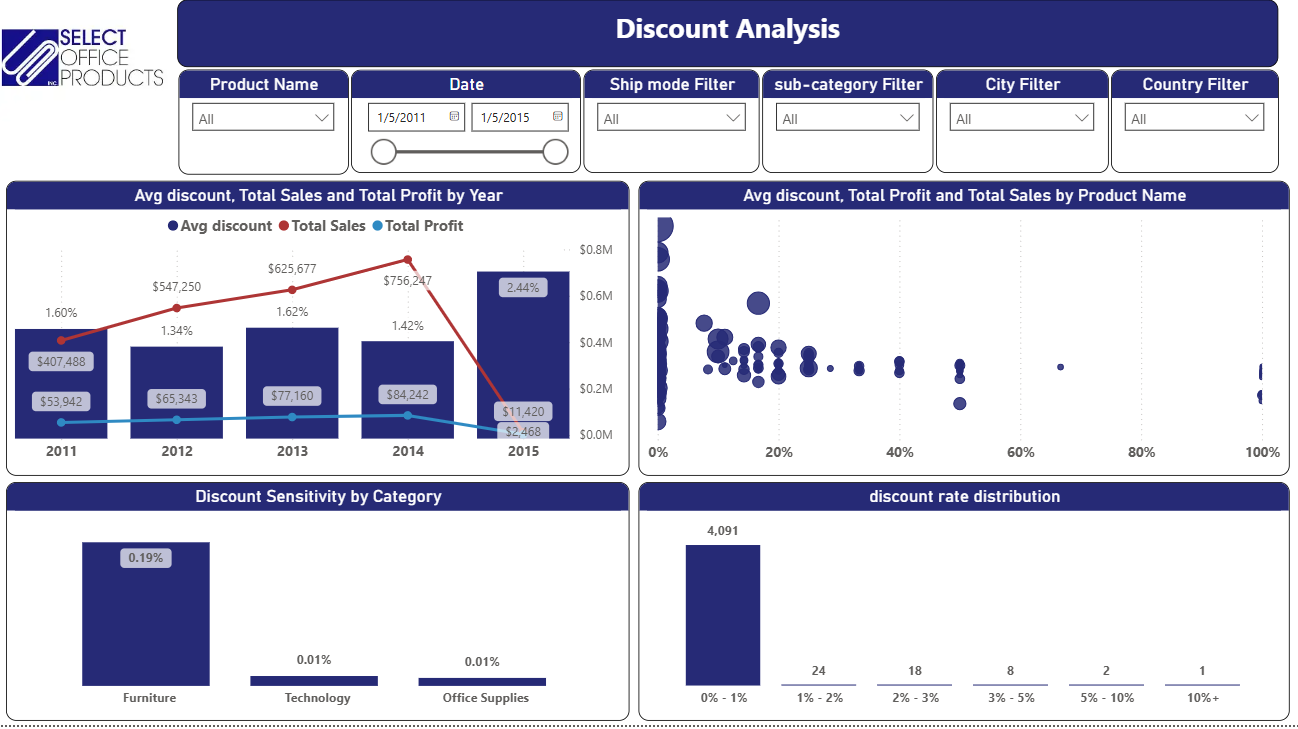

What the dashboard file says about the page in this screenshot:
{"tool":"powerbi","page":{"name":"Discount Analysis","canvas":[1280,720],"ordinal":6},"visuals":[{"type":"textbox","box":[177.9,7.4,1081,66.3],"z":0},{"type":"image","box":[0,4.9,169.3,122.7],"z":1000},{"type":"slicer","title":"Country Filter","fields":{"Values":["Country.Country"]},"box":[1094.5,76.1,164.4,101.8],"z":2000},{"type":"slicer","title":"City Filter","fields":{"Values":["City.City"]},"box":[922.7,76.1,169.3,101.8],"z":3000},{"type":"slicer","title":"sub-category Filter","fields":{"Values":["Sub-Category.Sub-Category"]},"box":[752.2,76.1,168.1,101.8],"z":4000},{"type":"slicer","title":"Ship mode Filter","fields":{"Values":["Ship Mode.Ship Mode"]},"box":[576.7,76.1,173,101.8],"z":5000},{"type":"slicer","title":"Date","fields":{"Values":["Dim_date.Date"]},"box":[348.5,76.1,225.8,101.8],"z":6000},{"type":"slicer","title":"Product Name","fields":{"Values":["Product.Product Name"]},"box":[179.1,76.1,166.9,103.1],"z":7000},{"type":"lineClusteredColumnComboChart","fields":{"Category":["Dim_date.Date.Variation.Date Hierarchy.Year","Dim_date.Date.Variation.Date Hierarchy.Quarter","Dim_date.Date.Variation.Date Hierarchy.Month","Dim_date.Date.Variation.Date Hierarchy.Day"],"Y2":["_Measures.Total Sales","_Measures.Total Profit"],"Y":["_Measures.Avg discount"]},"box":[9.8,185.3,612.3,289.6],"z":8000},{"type":"scatterChart","fields":{"Y":["_Measures.Total Profit"],"Size":["_Measures.Total Sales"],"Category":["Product.Product Name"],"X":["_Measures.Avg discount"]},"box":[630.7,185.3,639.3,289.6],"z":9000},{"type":"lineStackedColumnComboChart","fields":{"Category":["Category.Category"],"Y":["_Measures.Discount Sensitivity"]},"box":[9.8,481,612.3,234.4],"z":10000},{"type":"columnChart","title":"discount rate distribution","fields":{"Y":["_Measures.Number of orders"],"Category":["Order Details.Discount Bucket"]},"box":[631,481,639,234],"z":11000}]}

Visuals, with their boxes in screenshot pixels (x1, y1, x2, y2), scaled from the page's 1280x720 canvas onto the 1298x729 screenshot:
textbox: x1=180, y1=7, x2=1277, y2=75
image: x1=0, y1=5, x2=172, y2=129
"Country Filter" slicer: x1=1110, y1=77, x2=1277, y2=180
"City Filter" slicer: x1=936, y1=77, x2=1107, y2=180
"sub-category Filter" slicer: x1=763, y1=77, x2=933, y2=180
"Ship mode Filter" slicer: x1=585, y1=77, x2=760, y2=180
"Date" slicer: x1=353, y1=77, x2=582, y2=180
"Product Name" slicer: x1=182, y1=77, x2=351, y2=181
lineClusteredColumnComboChart - Dim_date.Date.Variation.Date Hierarchy.Year x Dim_date.Date.Variation.Date Hierarchy.Quarter: x1=10, y1=188, x2=631, y2=481
scatterChart - _Measures.Total Profit x _Measures.Total Sales: x1=640, y1=188, x2=1288, y2=481
lineStackedColumnComboChart - Category.Category x _Measures.Discount Sensitivity: x1=10, y1=487, x2=631, y2=724
"discount rate distribution" columnChart: x1=640, y1=487, x2=1288, y2=724
